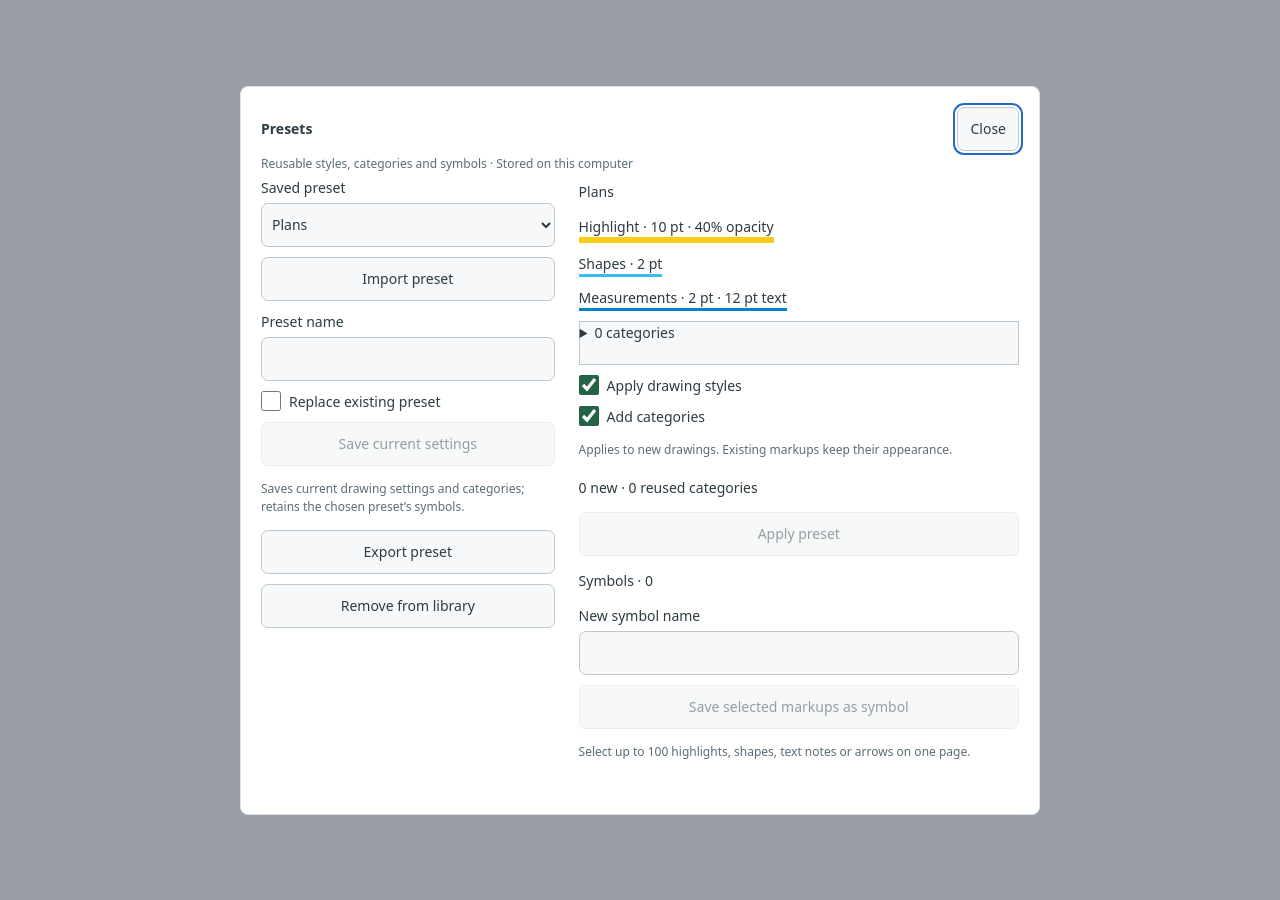
Scenario: requires explicit duplicate replacement, preserves library on quota failure, and distinguishes library save from project apply
The width and height of the screenshot is (1280, 900).
Step 1. Type "Plans" into the field labelled "Preset name" → (408, 358), box [261,336,555,380]
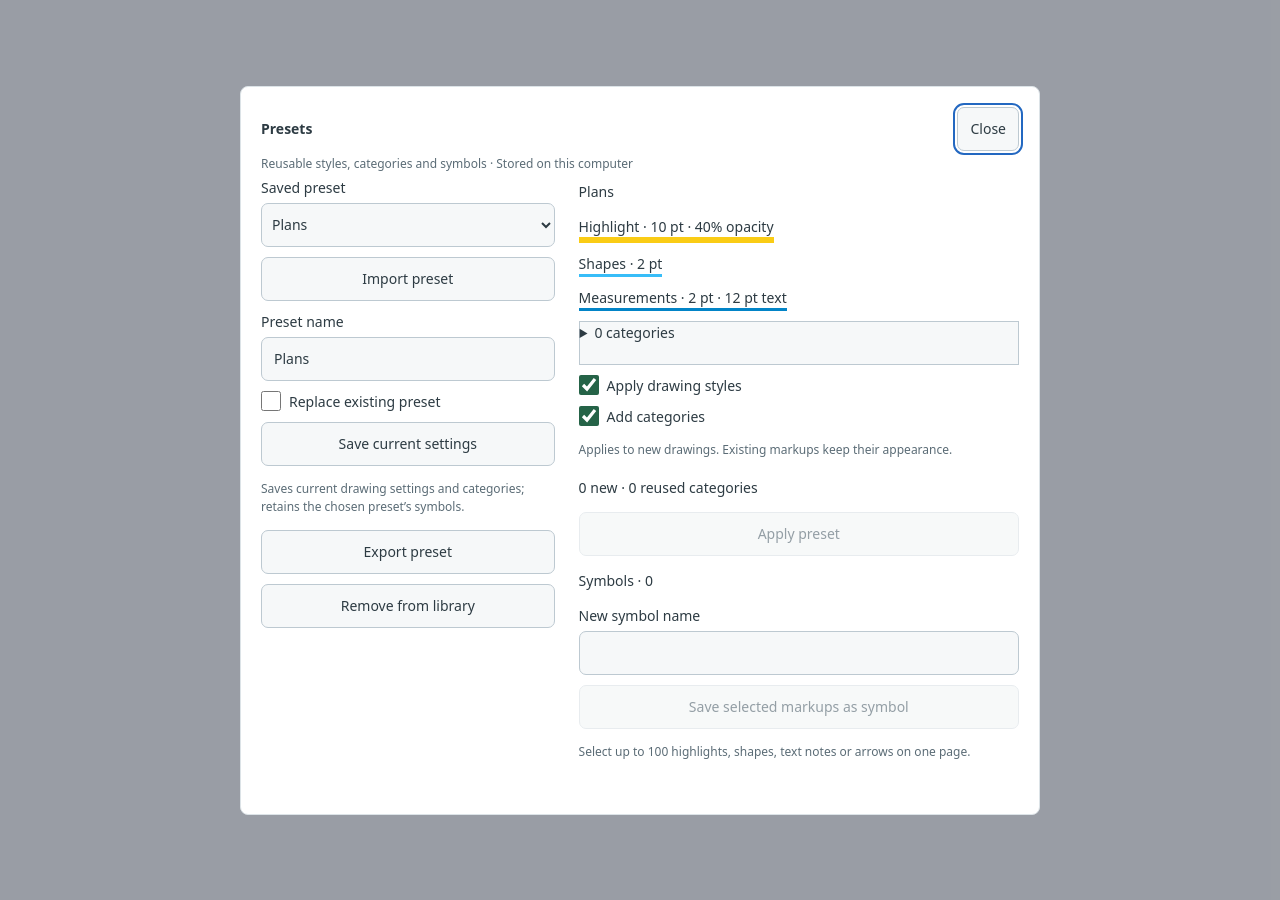
Step 2. Click the button "Save current settings" → click(408, 444), box [261,422,555,466]
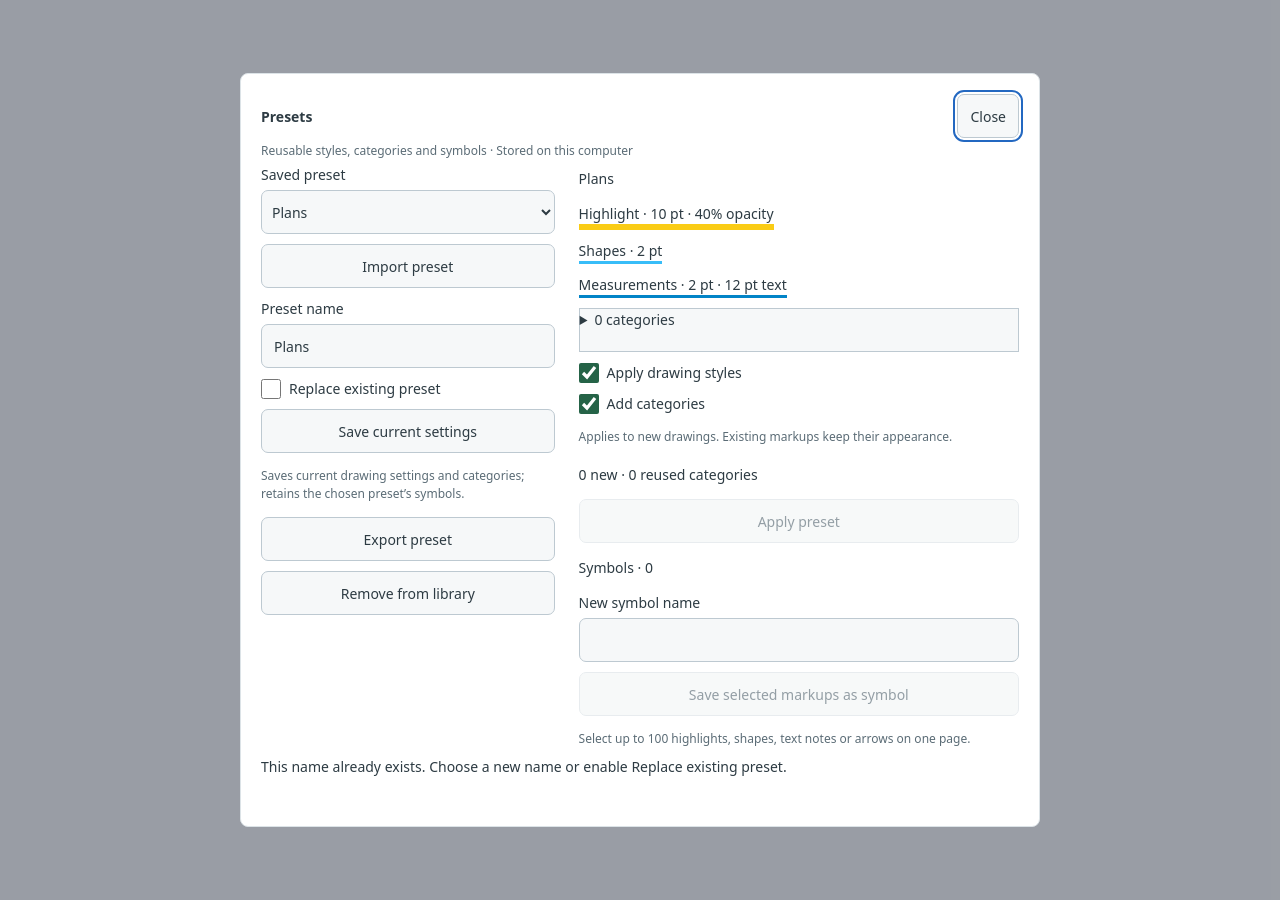
Check: the message "This name already exists. Choose a new name or enable Replace existing preset." is shown, box [261,757,787,776]
Step 3. Click the checkbox labelled "Replace existing preset" → click(271, 388), box [261,378,281,398]
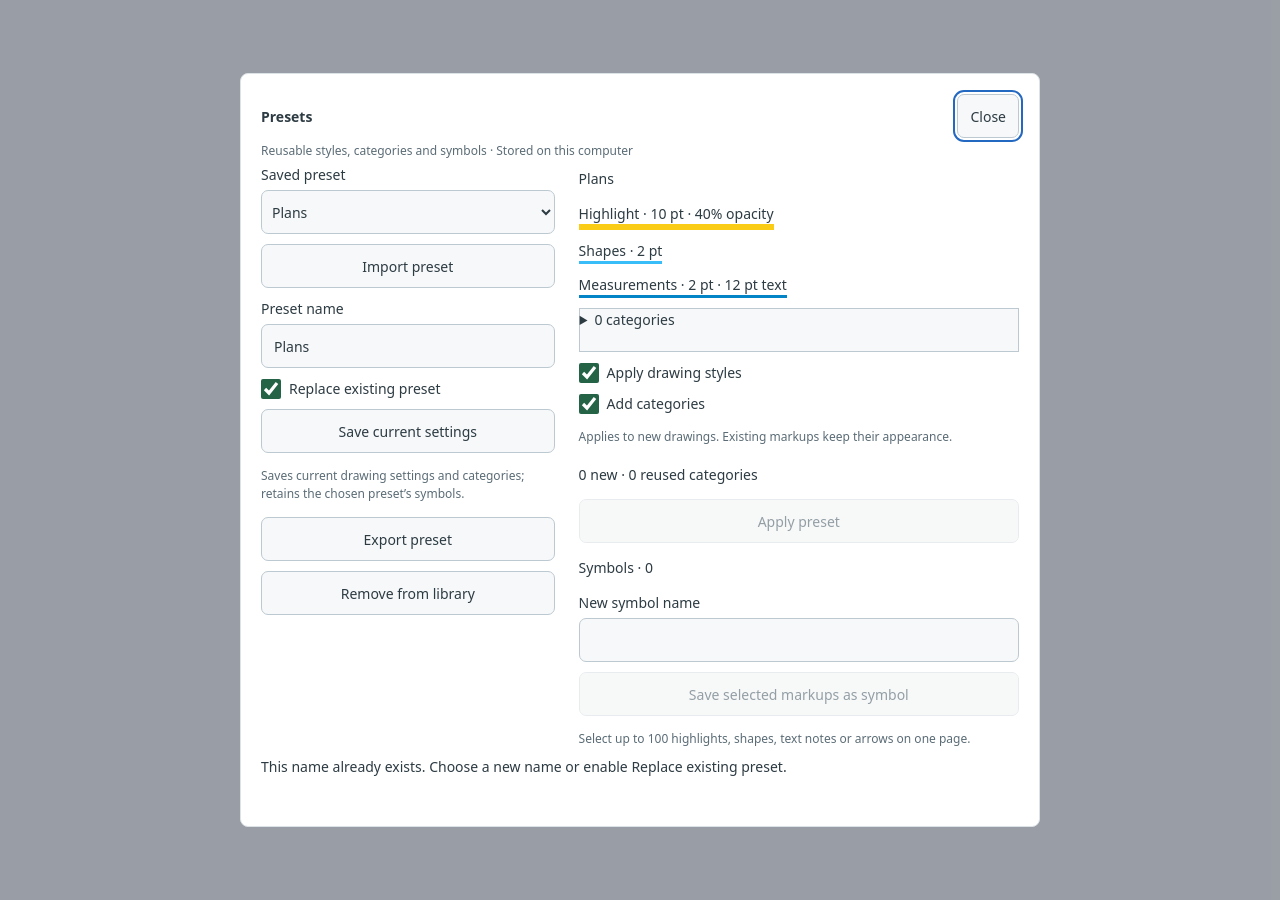
Step 4. Click the button "Save current settings" → click(408, 431), box [261,409,555,453]
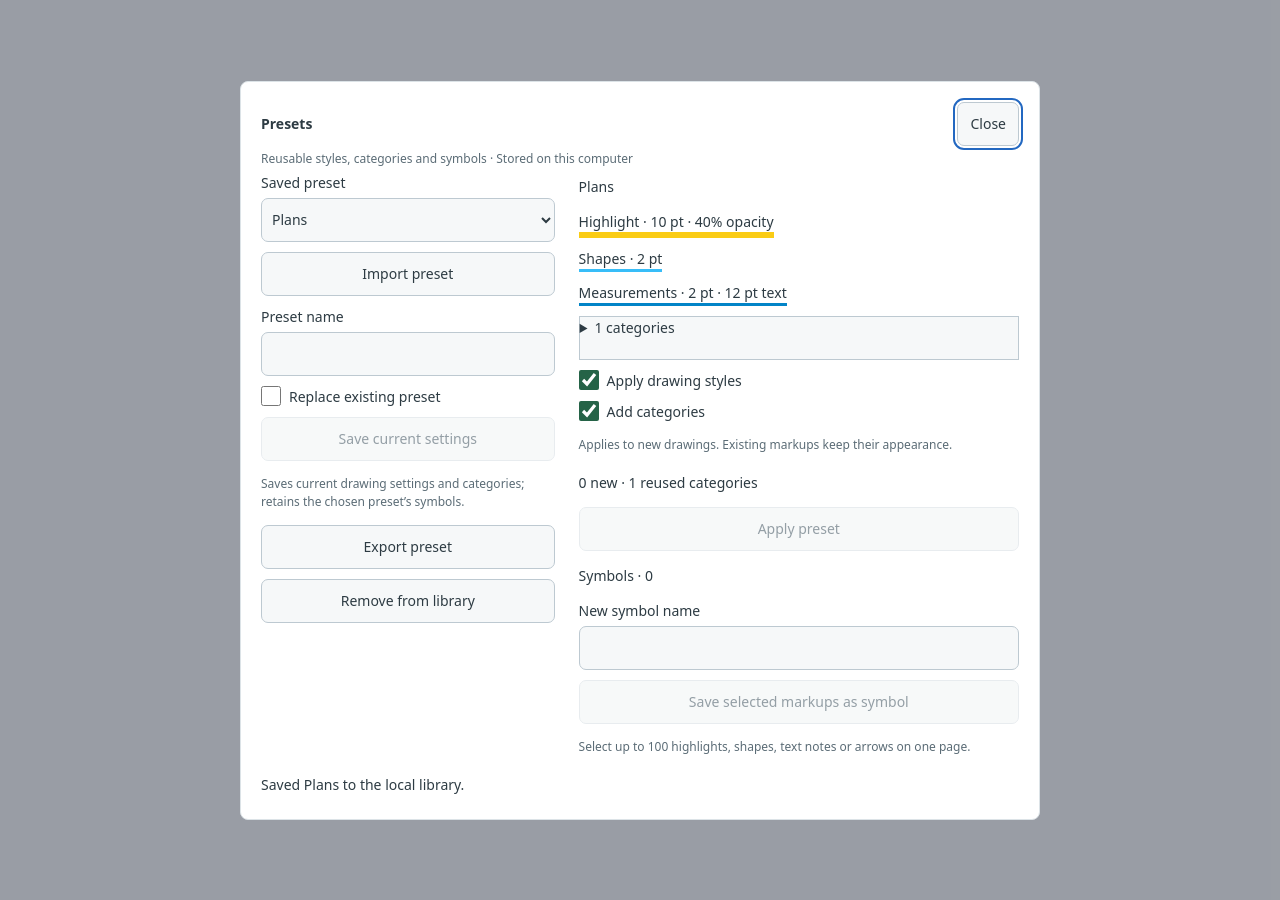
Step 5. Type "Another" into the field labelled "Preset name" → (408, 354), box [261,332,555,376]
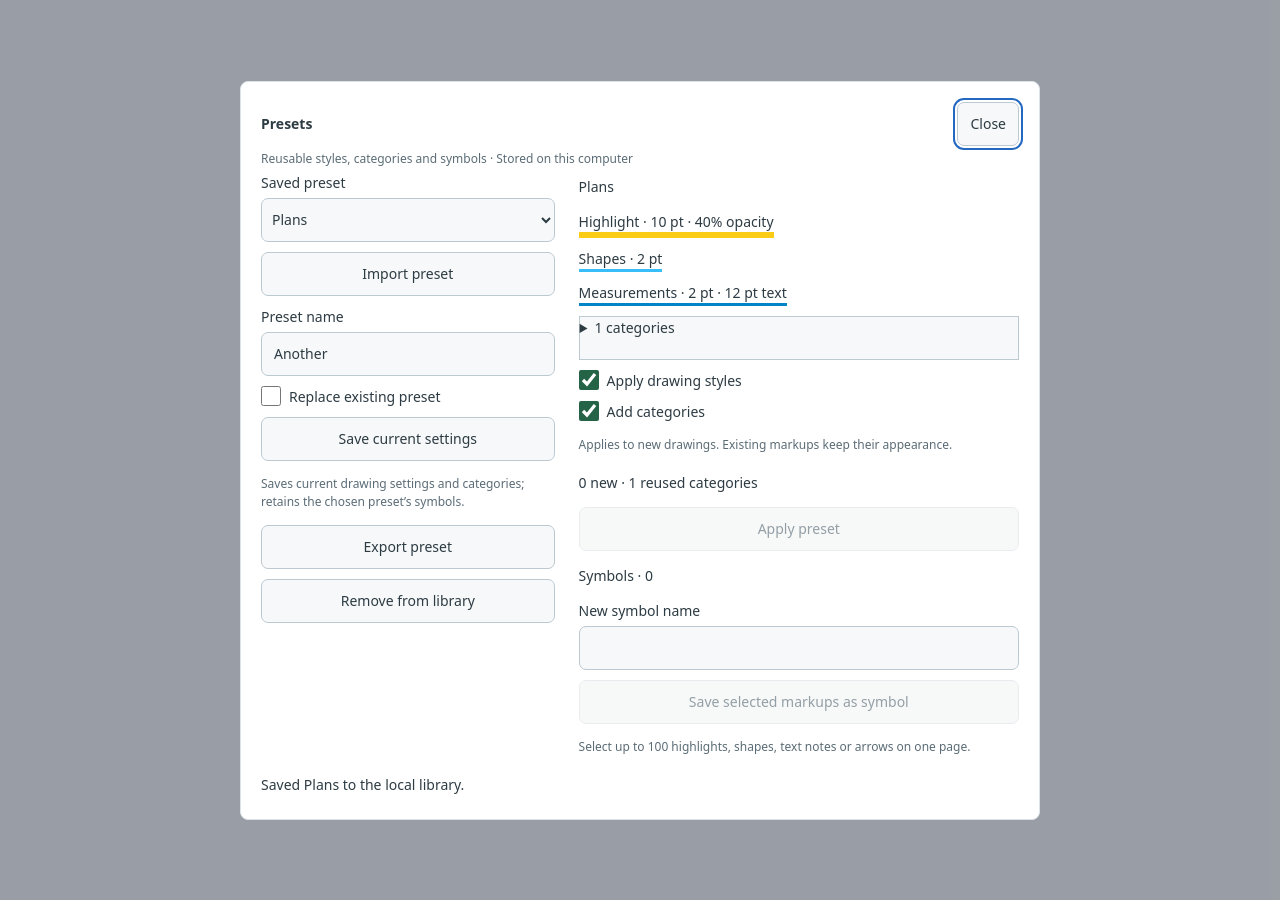
Step 6. Click the button "Save current settings" → click(408, 438), box [261,416,555,460]
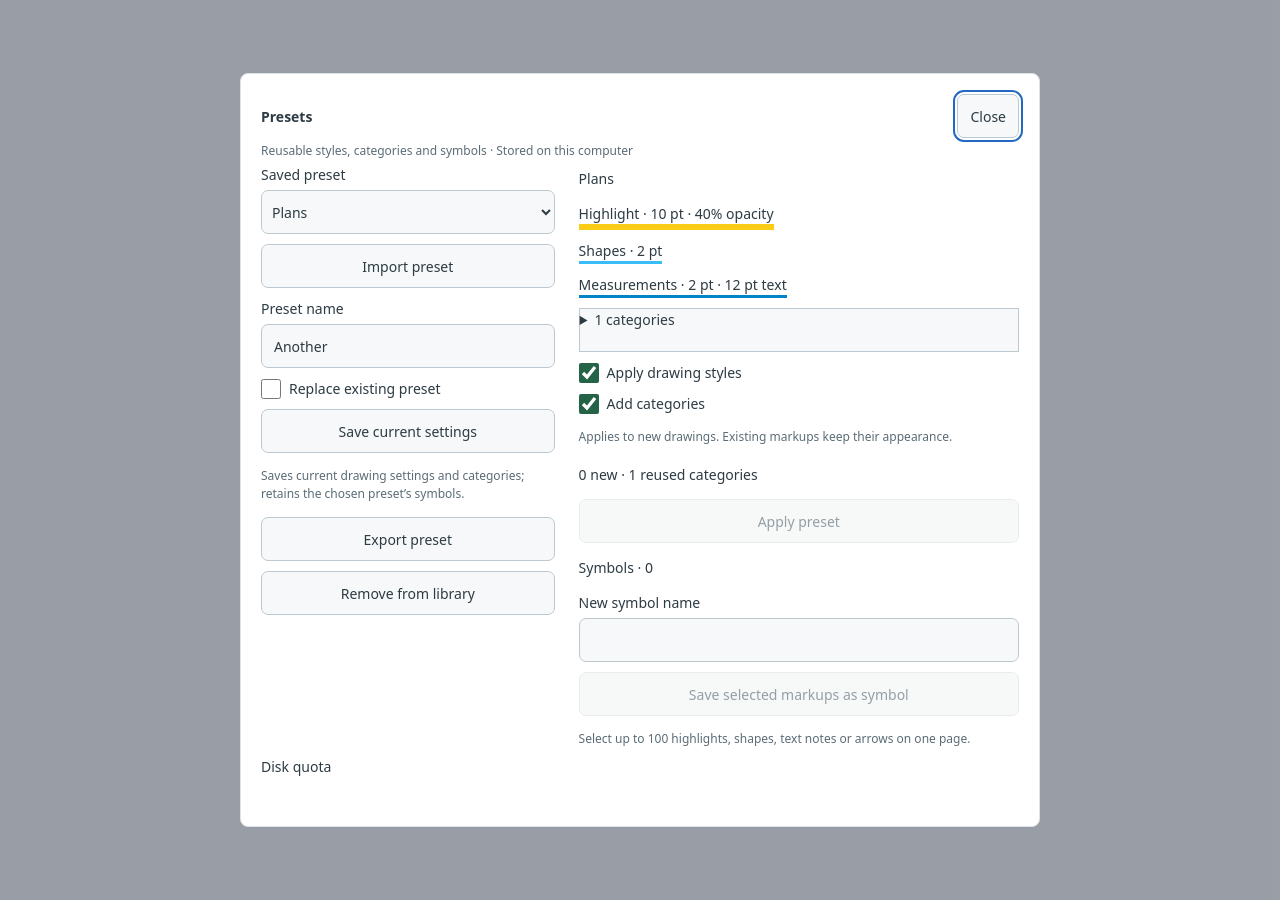
Check: the message "Disk quota" is shown, box [261,757,331,776]
